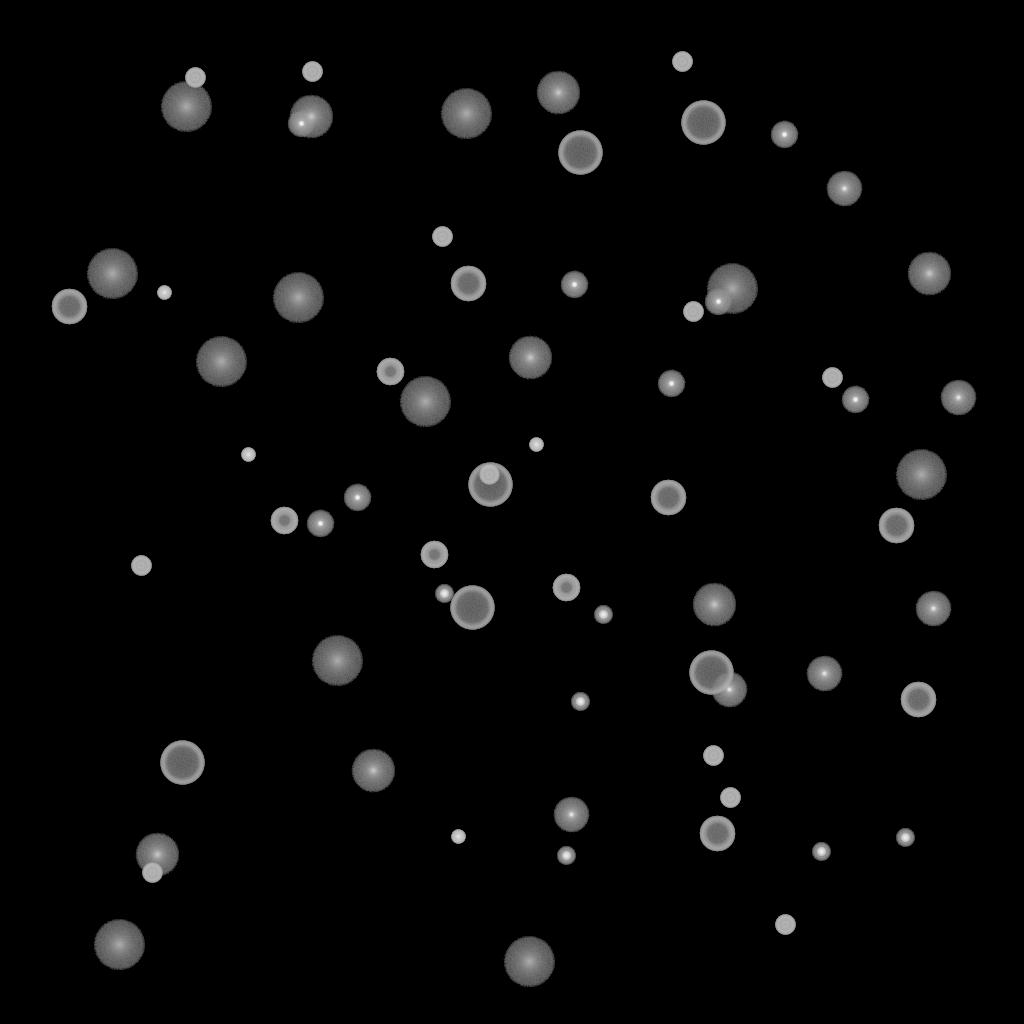depth:-10: (704, 288, 732, 316), (657, 370, 685, 398), (841, 386, 869, 414), (770, 121, 798, 149), (306, 510, 334, 538), (343, 484, 371, 512), (560, 271, 588, 299), (287, 110, 315, 138)
depth:-20: (594, 606, 612, 624), (812, 843, 830, 861), (435, 585, 453, 603), (896, 829, 914, 847), (557, 847, 575, 865), (571, 693, 589, 711)
depth:-30: (451, 830, 465, 844), (529, 438, 543, 452), (157, 286, 171, 300), (241, 448, 255, 462)
depth:-40: (720, 788, 740, 808), (775, 915, 795, 935), (479, 465, 499, 485), (672, 52, 692, 72), (703, 746, 723, 766), (302, 62, 322, 82), (142, 863, 162, 883), (185, 68, 205, 88), (131, 556, 151, 576), (432, 227, 452, 247), (683, 302, 703, 322), (822, 368, 842, 388)
depth:-50: (270, 507, 298, 535), (420, 541, 448, 569), (376, 358, 404, 386), (552, 574, 580, 602)
depth:-60: (878, 508, 914, 544), (51, 289, 87, 325), (650, 480, 686, 516), (699, 816, 735, 852), (450, 266, 486, 302), (900, 682, 936, 718)
depth:-70: (160, 741, 204, 785), (689, 651, 733, 695), (558, 131, 602, 175), (681, 101, 725, 145), (468, 463, 512, 507), (450, 586, 494, 630)
depth:0: (826, 171, 862, 207), (711, 672, 747, 708), (940, 380, 976, 416), (553, 797, 589, 833), (915, 591, 951, 627), (806, 656, 842, 692)
depth:10: (351, 749, 395, 793), (692, 583, 736, 627), (135, 833, 179, 877), (508, 336, 552, 380), (536, 71, 580, 115), (907, 252, 951, 296), (289, 95, 333, 139)
depth:20: (86, 249, 138, 299), (440, 89, 492, 139), (160, 82, 212, 132), (272, 273, 324, 323), (195, 337, 247, 387), (895, 450, 947, 500), (93, 920, 145, 970), (706, 264, 758, 314), (503, 937, 555, 987), (399, 377, 451, 427), (311, 636, 363, 686)
